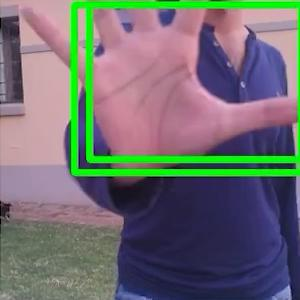follow_hand: (18, 0, 299, 171)
